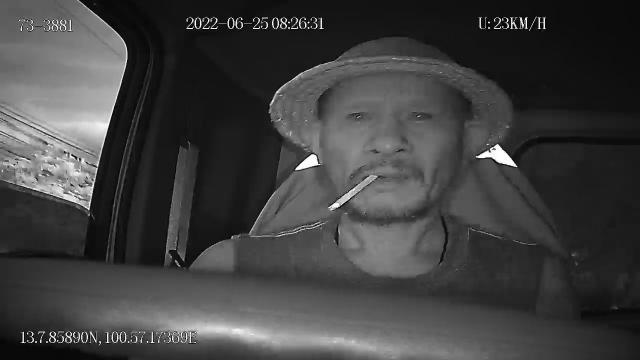SafeDriving: (340, 99, 379, 128), (400, 101, 440, 128)
Smoking: (327, 174, 379, 212)
